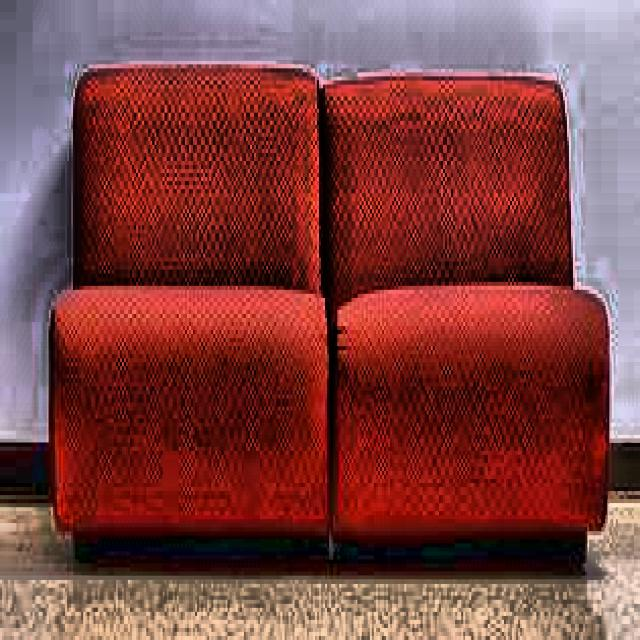sofa: (47, 64, 610, 564)
